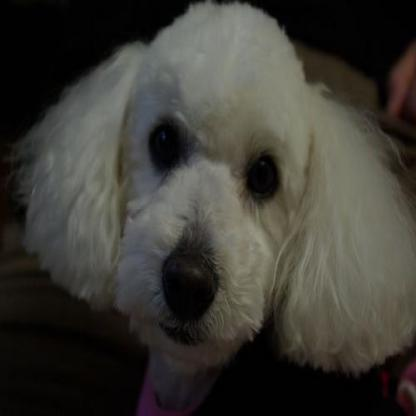toy_poodle: (27, 0, 414, 372)
